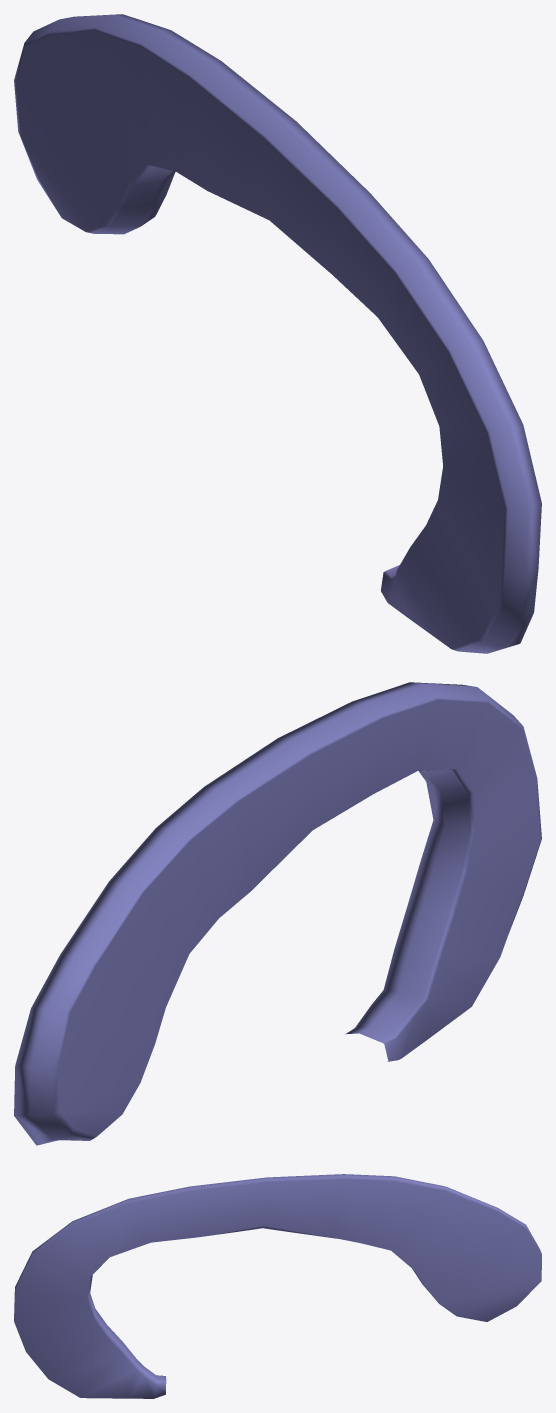
Rendered from Corpus_Callosum_Trans.gltf.
The picture shows the model from 3 angles, top to bottom: view 1: azimuth 30°, elevation 25°; view 2: azimuth 150°, elevation 25°; view 3: azimuth 270°, elevation 25°; orthographic projection. The views are drawn at different scales.
Parts seen in each view (by area): view 1: Corpus_Callosum; view 2: Corpus_Callosum; view 3: Corpus_Callosum.
Part boxes in pixels (x1=…): Corpus_Callosum: x1=14, y1=14, x2=541, y2=653; Corpus_Callosum: x1=14, y1=682, x2=541, y2=1145; Corpus_Callosum: x1=14, y1=1174, x2=541, y2=1398.
Bounding box in the file's own units: 0.5957 × 3.74 × 8.27.
